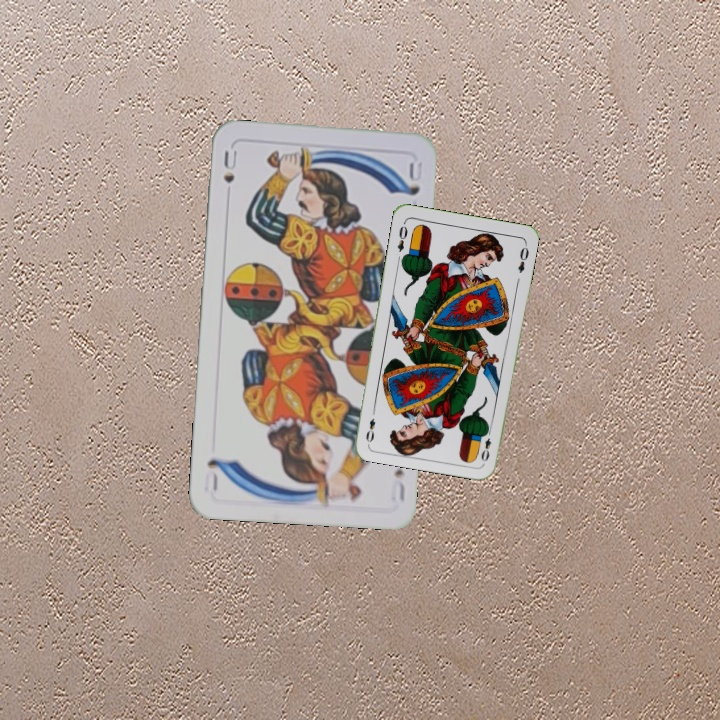EO: (477, 425, 494, 464), (393, 218, 410, 254)
SU: (386, 464, 408, 504), (219, 146, 240, 185)
